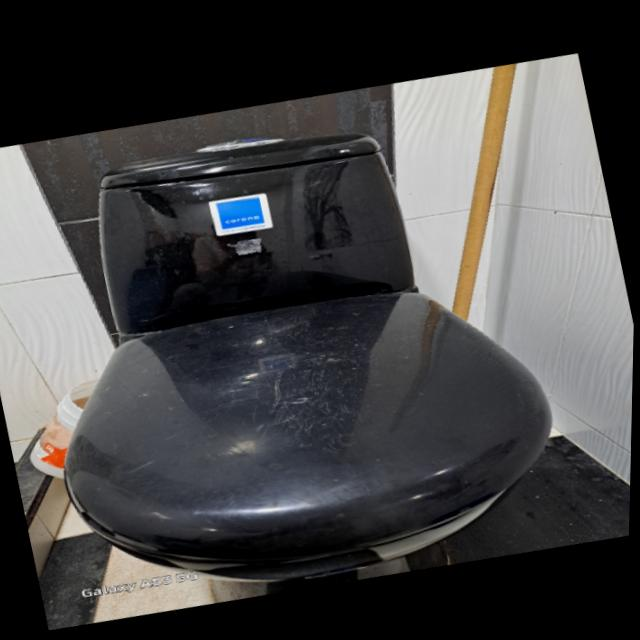toilet: (0, 64, 587, 640)
